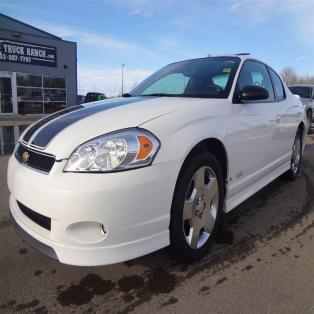Auto: (6, 50, 309, 272)
